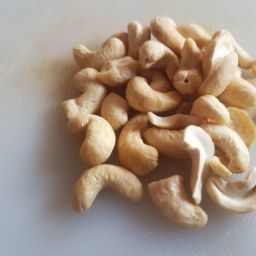Cashew: (74, 35, 256, 212)
